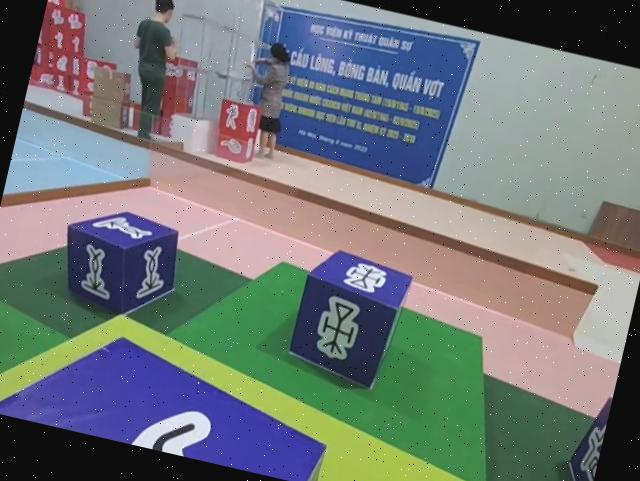R2 Real Blue: (283, 242, 415, 393), (52, 197, 190, 325), (549, 389, 612, 481)
